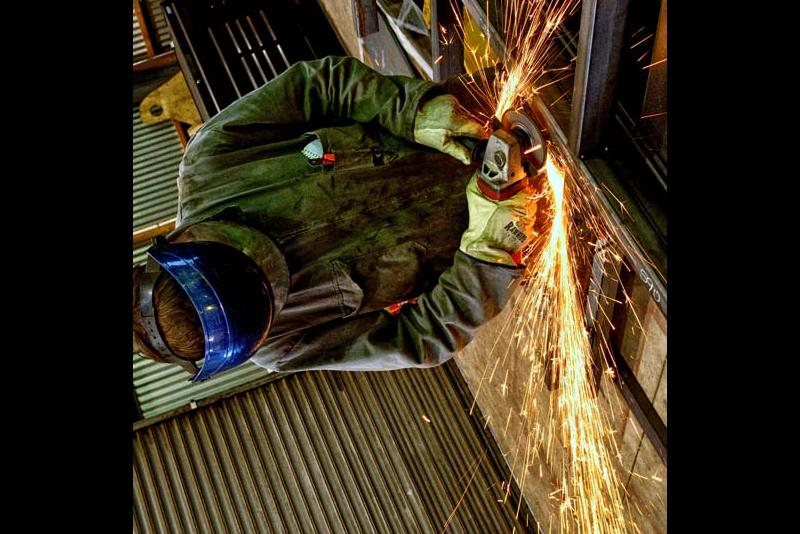controlled_fire: (474, 0, 618, 534)
